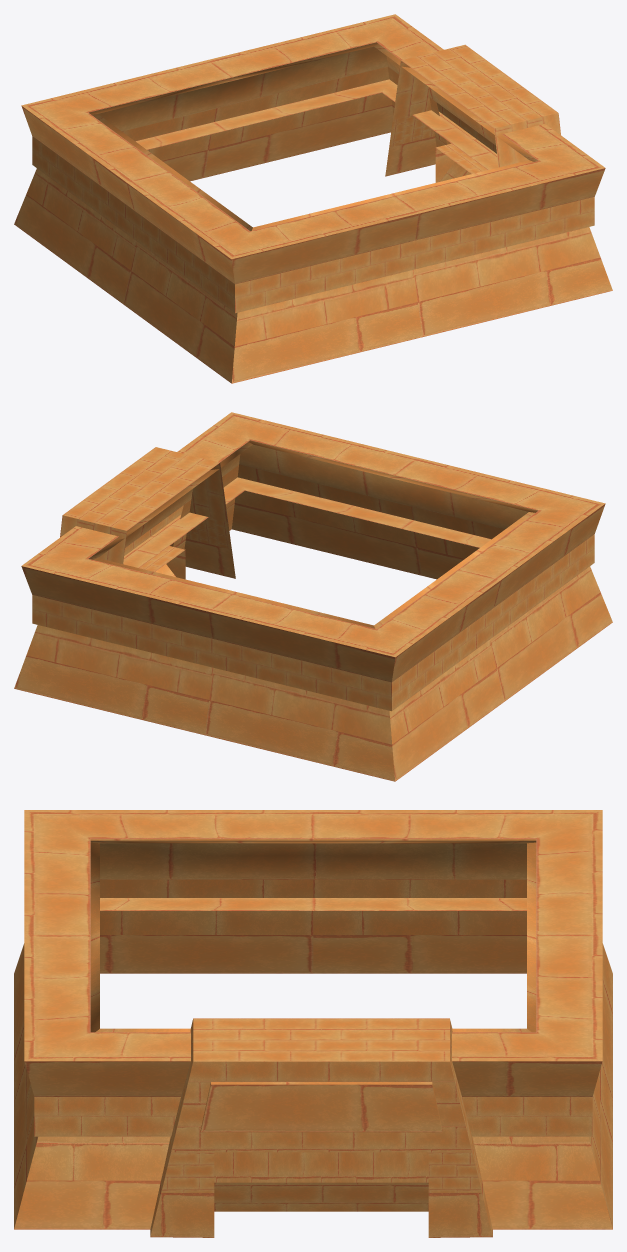
Rendered from TempleFloor03_Art.glb.
The picture shows the model from 3 angles, top to bottom: view 1: azimuth 30°, elevation 25°; view 2: azimuth 150°, elevation 25°; view 3: azimuth 270°, elevation 25°; orthographic projection. The views are drawn at different scales.
Visible parts, largest first — view 1: TempleFloor03_Art; view 2: TempleFloor03_Art; view 3: TempleFloor03_Art.
Part boxes in pixels (left/top/right/bottom): TempleFloor03_Art: left=14, top=14, right=612, bottom=383; TempleFloor03_Art: left=14, top=412, right=612, bottom=781; TempleFloor03_Art: left=14, top=810, right=612, bottom=1237.
Size of the model in its own units: 50.86 by 15.74 by 48.45.
2 materials, 2 textured.
